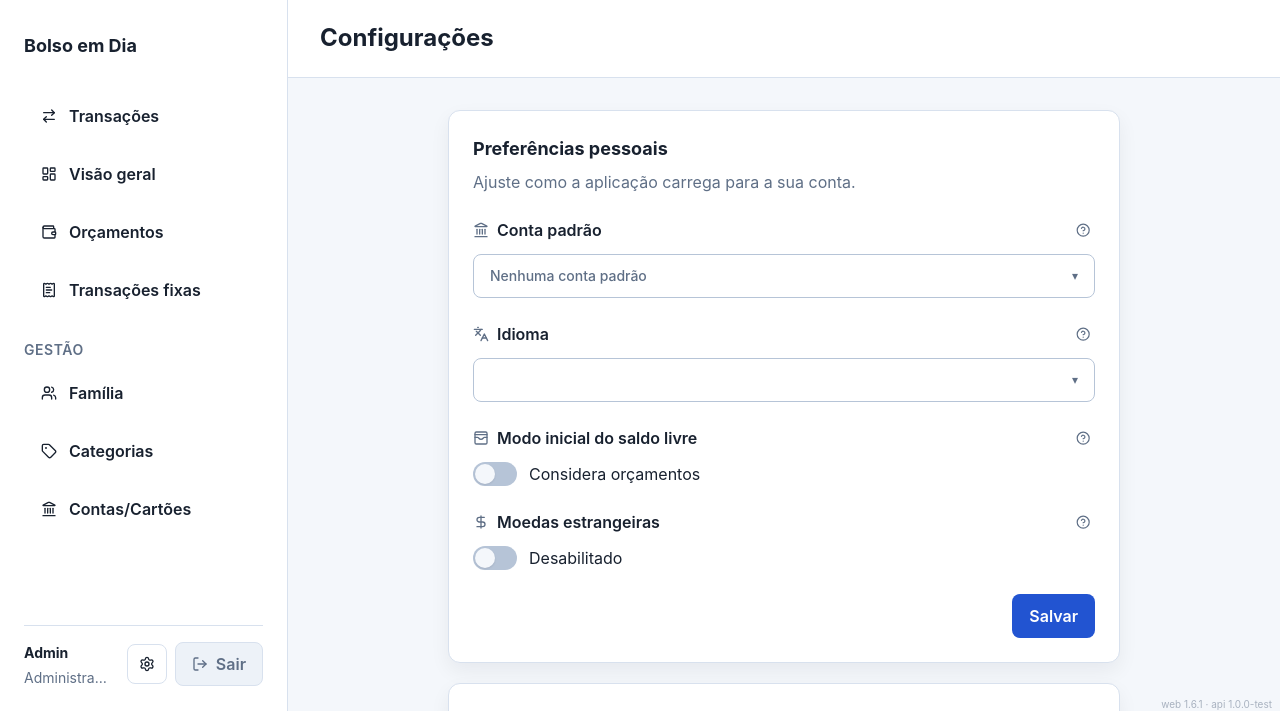
Test: UserSettingsPage › saves the foreign currency preference when enabling it
Click the switch labelled "Desabilitado": click(548, 558) [473,546,622,570]
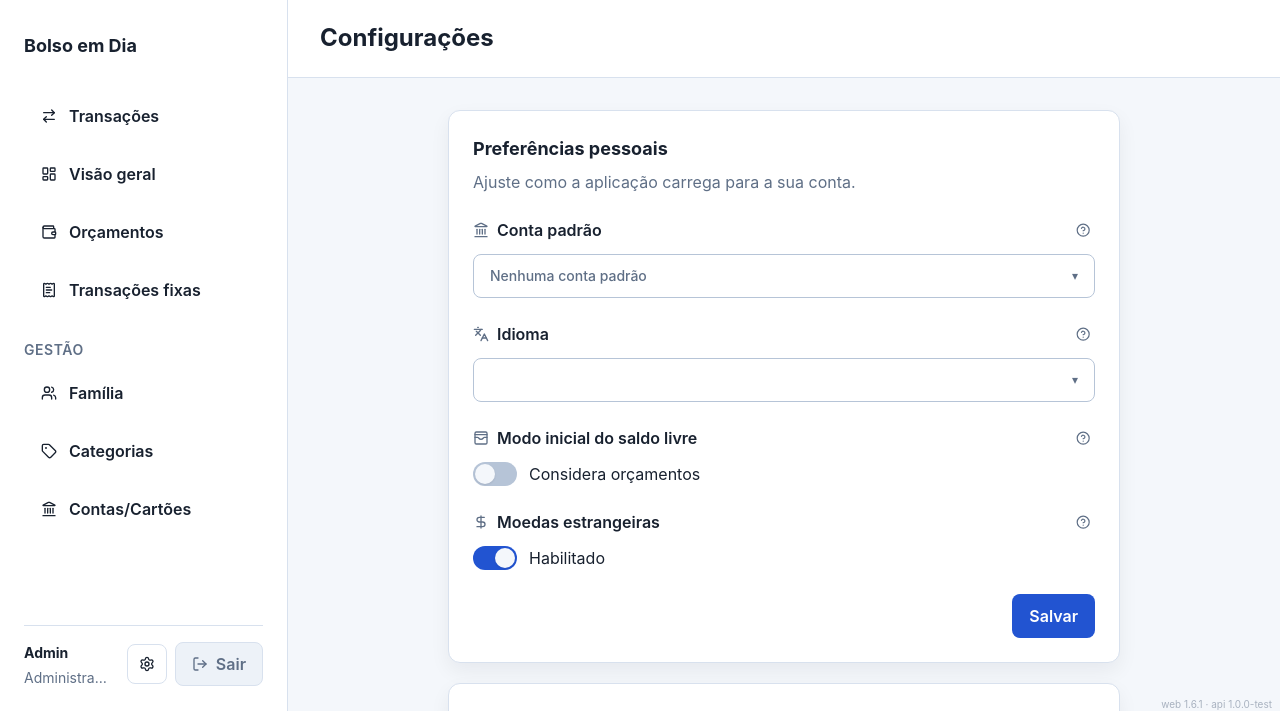
Click the button "Salvar": click(1054, 616) [1012,594,1095,638]
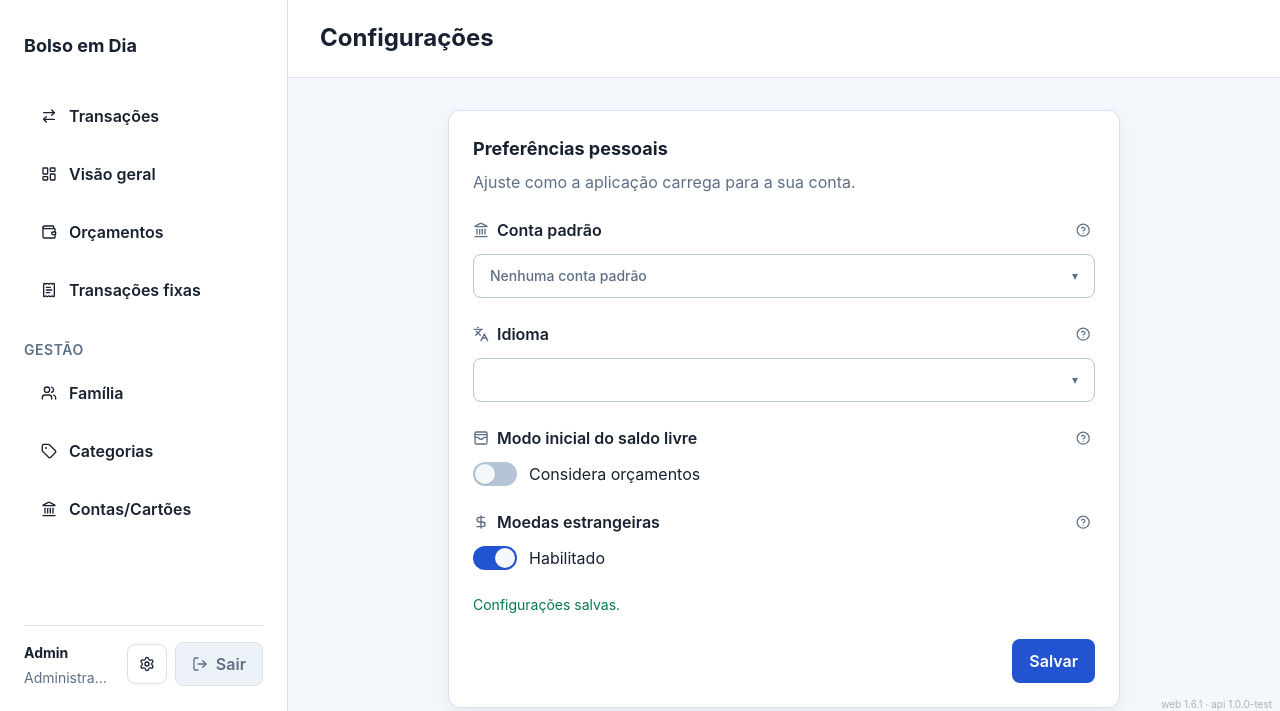
Result: the text "Configurações salvas." is shown at [473,596,620,613]
